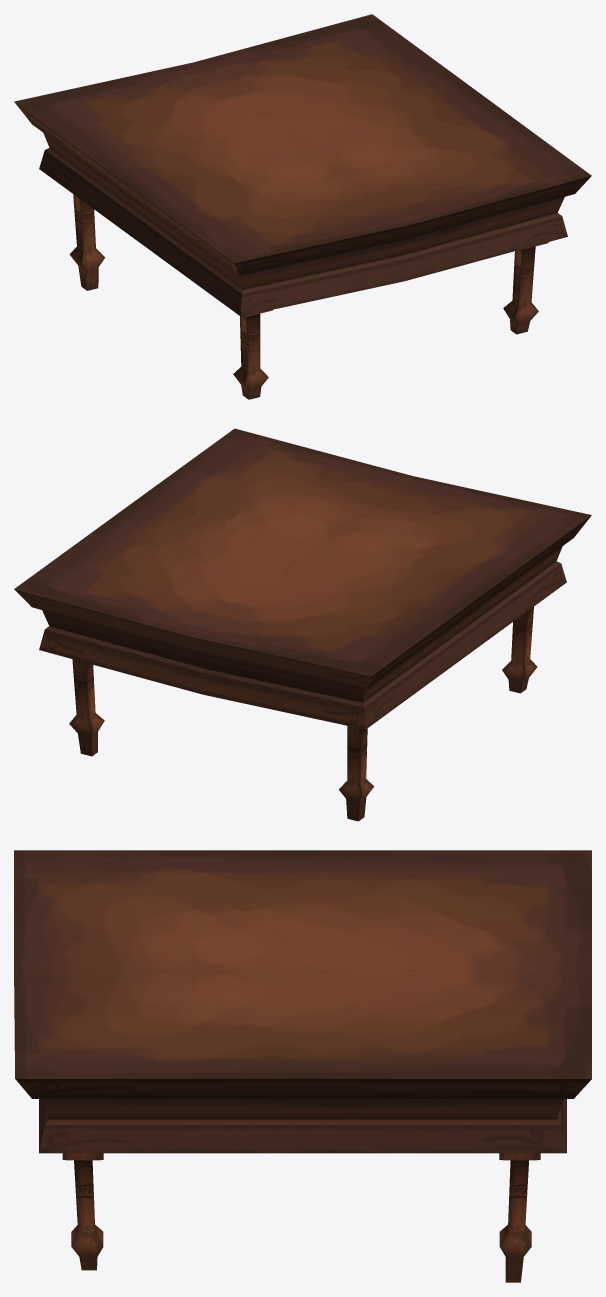
File: e_asset_bed_fancybedpost.fbx
3 renders of one model, top to bottom at view 1: azimuth 30°, elevation 25°; view 2: azimuth 150°, elevation 25°; view 3: azimuth 270°, elevation 25°, orthographic. The views are drawn at different scales.
Visible parts, largest first — view 1: polySurface903; view 2: polySurface903; view 3: polySurface903.
Part boxes in pixels (box(x1,y1,x2,y2)): polySurface903: box(14, 14, 591, 399); polySurface903: box(14, 428, 591, 821); polySurface903: box(14, 850, 591, 1282).
Bounding box in the file's own units: 2.52 × 1.18 × 2.69.
